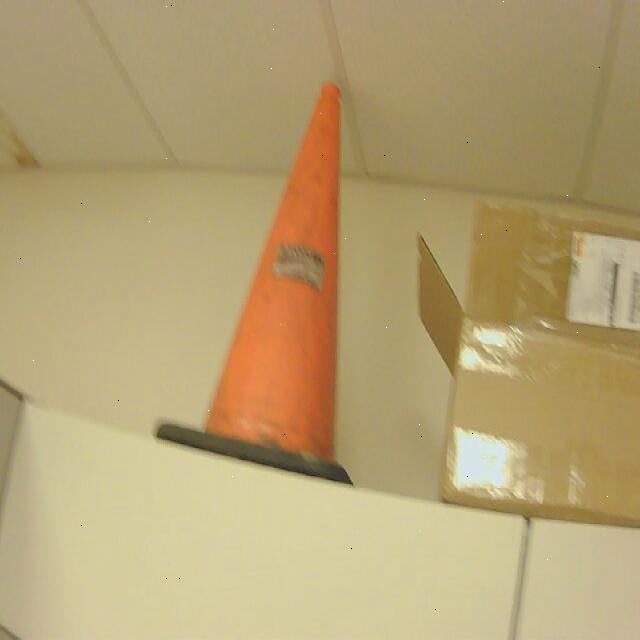traffic cone: (156, 84, 351, 486)
